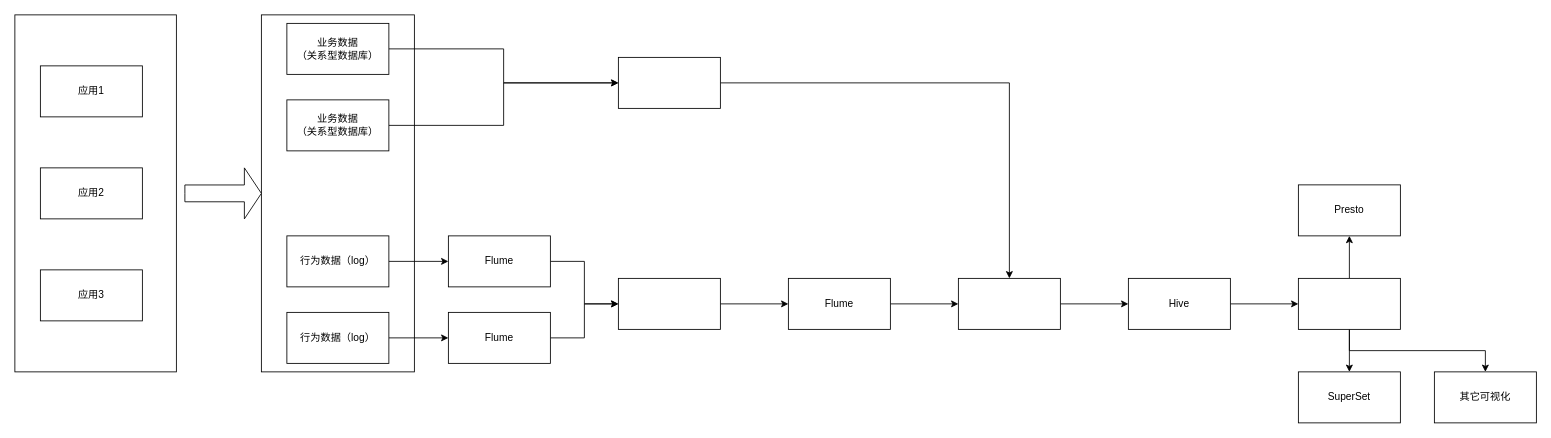
This 1551x438 diagram has some shape labels left out. The shapes that lost their labels are listed below. From the top down, each one's centre as x and y in pixels, then its label:
At point (669, 82): "datax".
At point (222, 193): "产生数据".
At point (669, 303): "Kafka".
At point (1009, 303): "HDFS".
At point (1349, 303): "Mysql".
